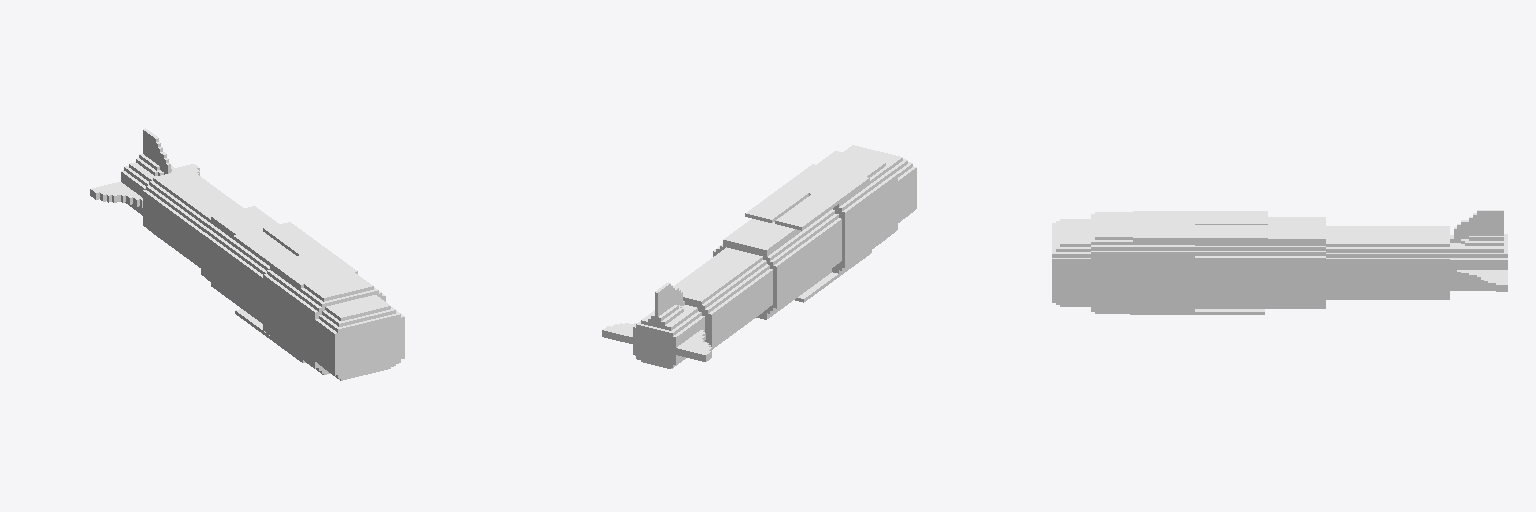
File: Gotha-0.obj
3 renders of one model, left to right at view 1: azimuth 30°, elevation 25°; view 2: azimuth 150°, elevation 25°; view 3: azimuth 270°, elevation 25°, orthographic.
Visible parts, largest first — view 1: Gotha-0; view 2: Gotha-0; view 3: Gotha-0.
Boxes of the visible parts, x1,y1,x2,y2 form: Gotha-0: [90, 128, 404, 380]; Gotha-0: [602, 145, 916, 368]; Gotha-0: [1052, 210, 1507, 314].
Size of the model in its own units: 31 by 26 by 118.